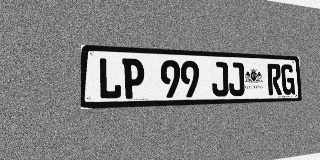9: (161, 60, 181, 98), (181, 60, 200, 97)
G: (281, 64, 295, 95)
J: (211, 62, 229, 97), (228, 62, 245, 96)
L: (98, 57, 122, 99)
P: (122, 58, 144, 99)
R: (267, 64, 282, 95)
